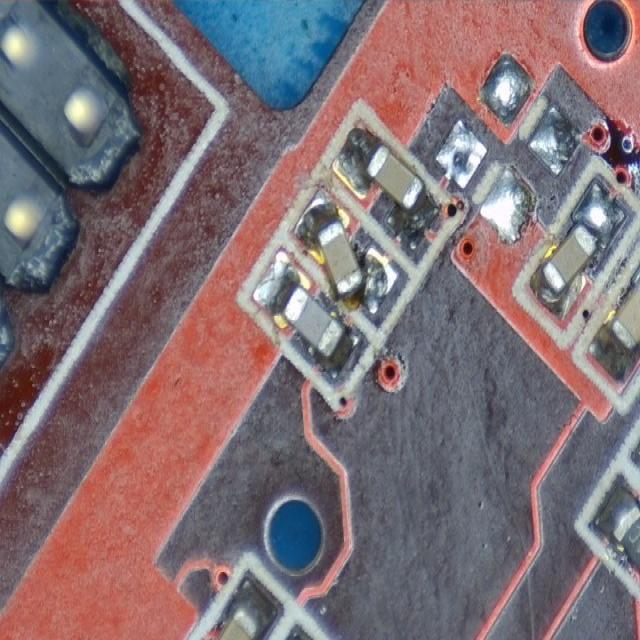Incorrect_installation: (332, 119, 439, 251), (292, 188, 397, 314), (531, 182, 626, 319)
